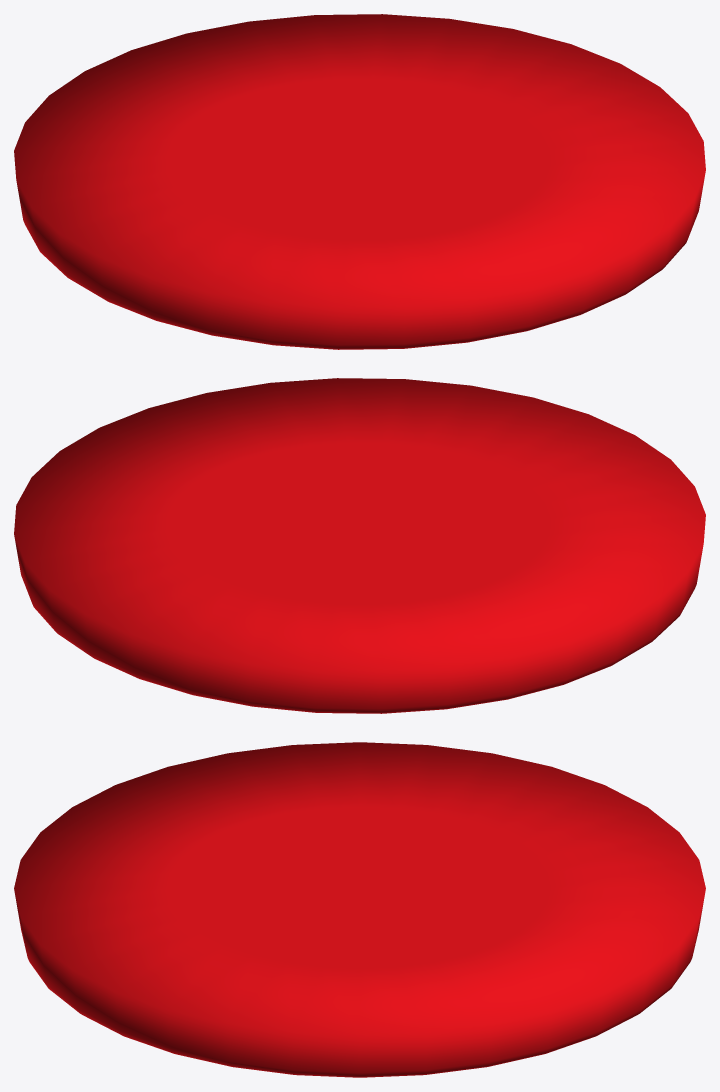
Rendered from water.fbx.
3 renders of one model, top to bottom at view 1: azimuth 30°, elevation 25°; view 2: azimuth 150°, elevation 25°; view 3: azimuth 270°, elevation 25°, orthographic.
Visible parts, largest first — view 1: Bucket; view 2: Bucket; view 3: Bucket.
Boxes of the visible parts, box(x1,y1,x2,y2) form: Bucket: box(14, 14, 705, 349); Bucket: box(14, 378, 705, 713); Bucket: box(14, 742, 705, 1077).
Size of the model in its own units: 135 by 10.63 by 135.
